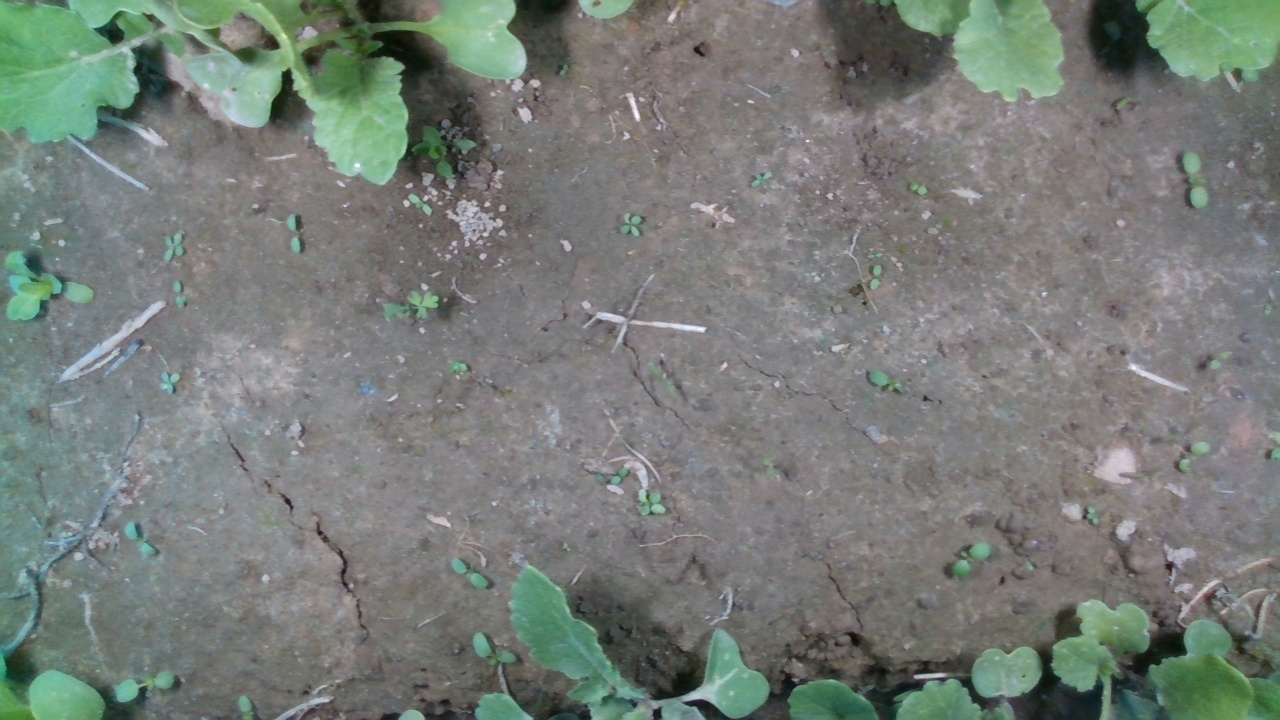weed: (113, 667, 176, 702), (1179, 149, 1210, 211), (383, 290, 440, 321), (471, 632, 518, 666), (949, 541, 992, 577), (121, 519, 158, 558), (448, 555, 490, 589), (863, 369, 910, 395), (1176, 440, 1211, 473), (635, 488, 666, 518), (284, 212, 303, 256), (618, 209, 643, 237), (161, 231, 185, 260), (157, 370, 179, 395), (1210, 349, 1234, 371), (750, 168, 772, 190), (171, 278, 184, 308), (1082, 504, 1100, 524), (868, 263, 881, 289), (610, 467, 628, 485), (908, 182, 928, 195)
